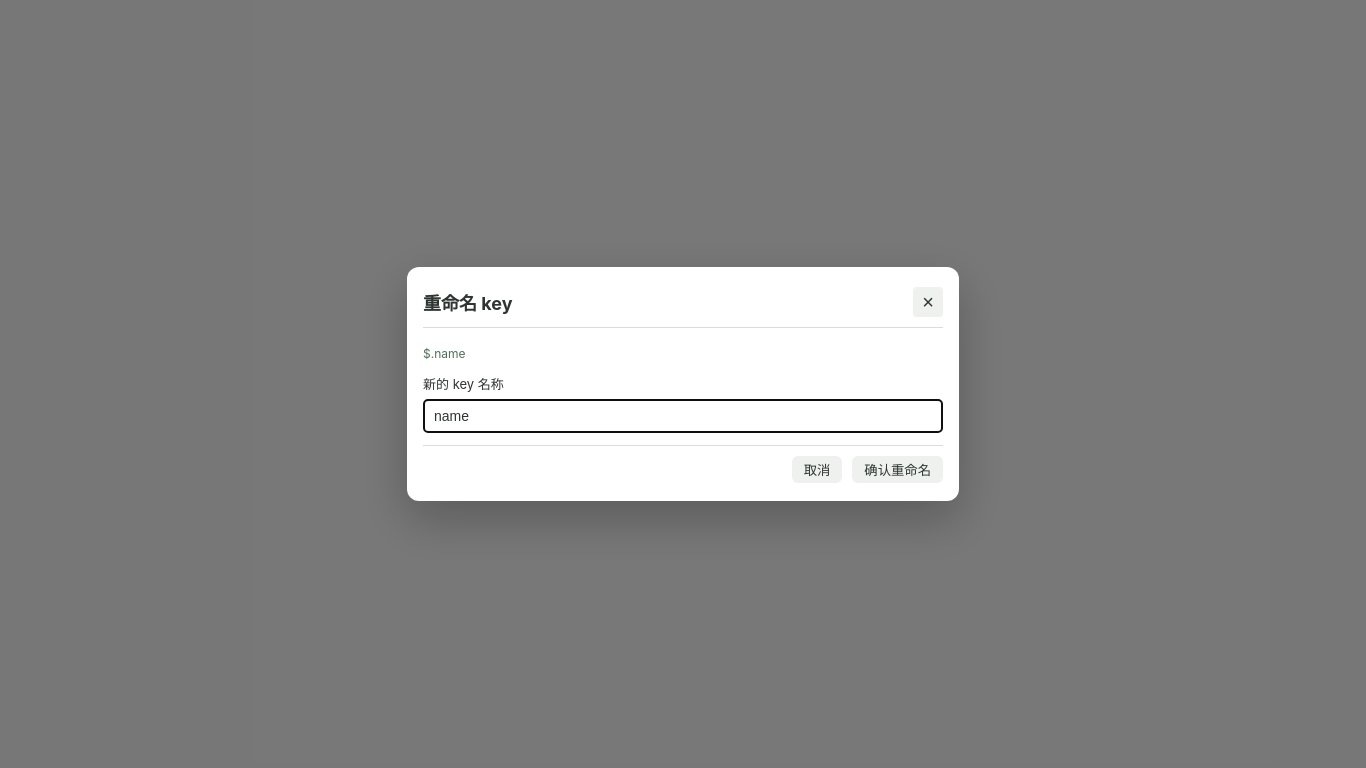
Test: RightNodeMutationDialog › warns when renamed keys include outer whitespace
This screenshot has width=1366, height=768.
Replace the text in the field labelled "新的 key 名称" with " displayName ": coordinates (683, 416) [423,399,943,433]
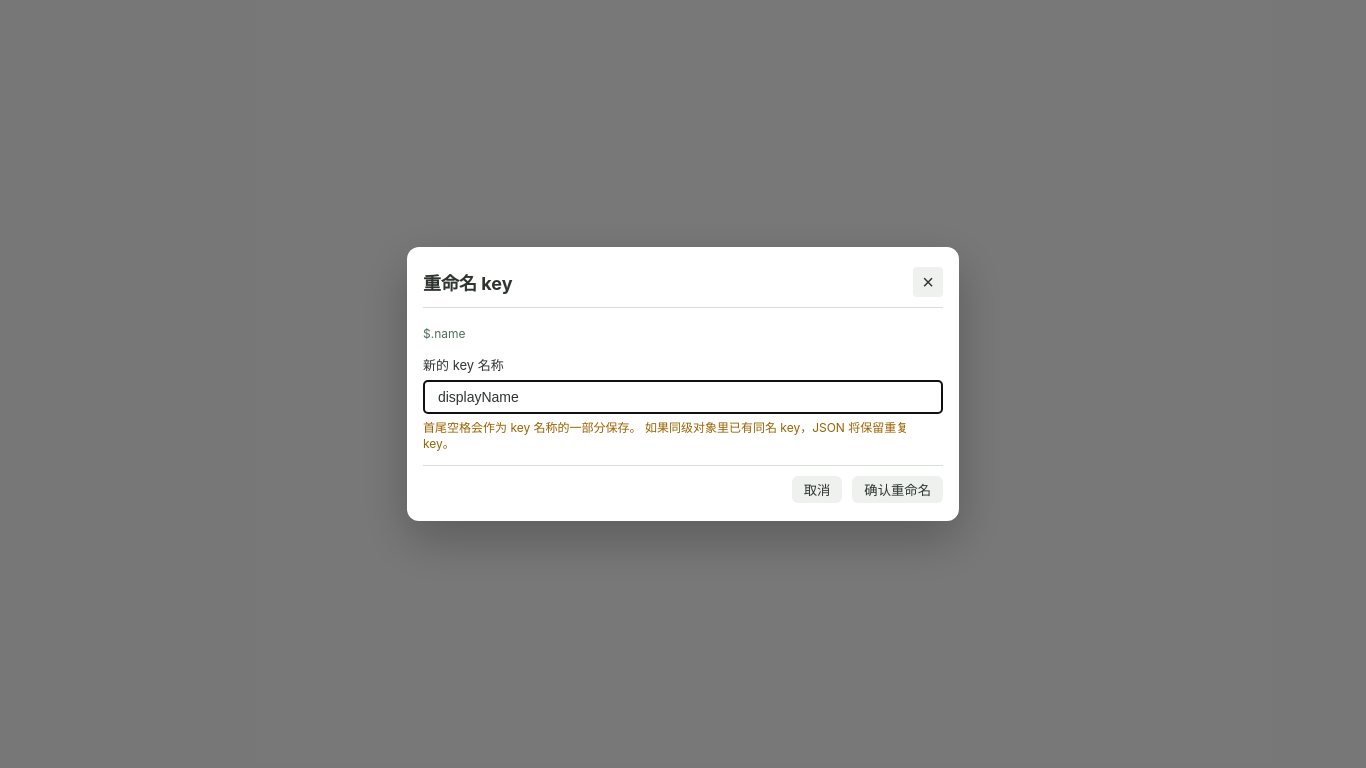
Check: the text "首尾空格会作为 key 名称的一部分保存。 如果同级对象里已有同名 key，JSON 将保留重复 key。" is shown, box [423,420,943,453]
